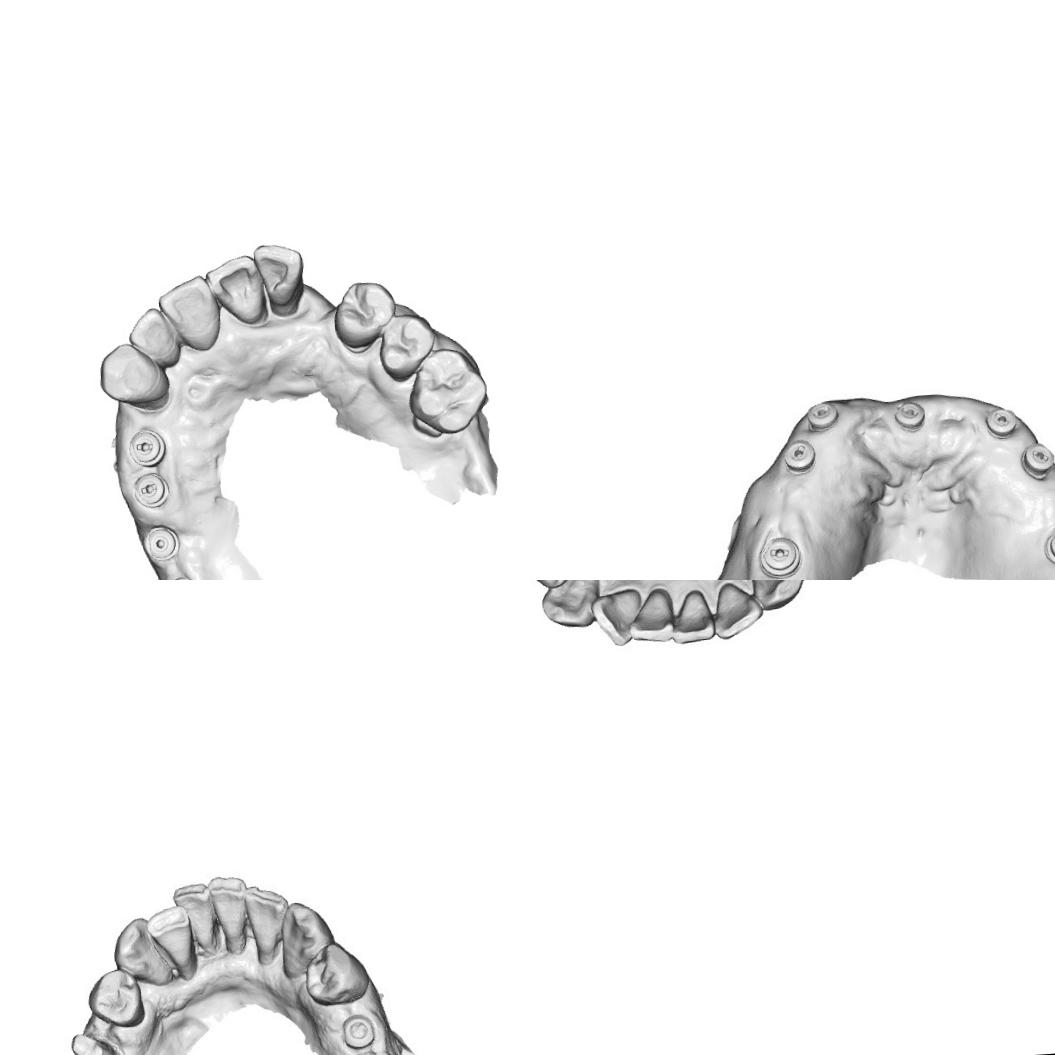canine: (95, 338, 162, 406), (282, 899, 334, 981), (112, 918, 168, 980), (538, 580, 598, 631), (747, 580, 806, 611)
crown: (67, 1028, 124, 1055)
implant: (335, 1010, 381, 1054), (140, 521, 182, 563)
implant_minus: (756, 532, 800, 580), (124, 426, 166, 468), (131, 470, 173, 511), (1020, 437, 1055, 478), (780, 438, 814, 472), (984, 404, 1018, 438), (893, 398, 925, 430), (804, 398, 838, 426), (1043, 526, 1055, 566)
incisor: (157, 272, 224, 352), (209, 252, 267, 333), (250, 240, 314, 311), (123, 303, 188, 371), (244, 882, 290, 968), (708, 580, 764, 642), (209, 876, 252, 950), (151, 907, 197, 976), (174, 881, 216, 952), (667, 589, 718, 647), (591, 588, 638, 650), (624, 591, 675, 645)
molar: (402, 342, 492, 438)
premolar: (328, 276, 401, 351), (373, 307, 440, 383), (300, 941, 373, 1004), (86, 969, 146, 1027)
